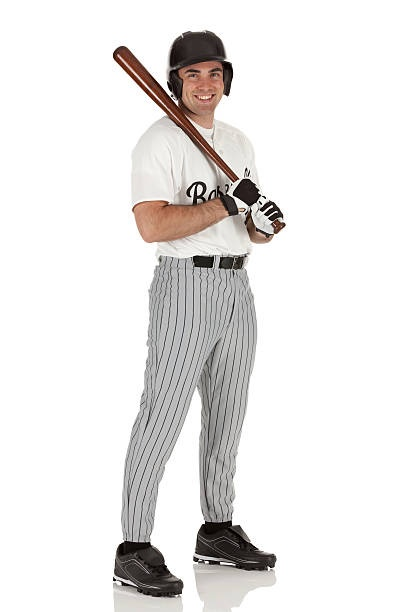bita: (109, 36, 242, 195)
